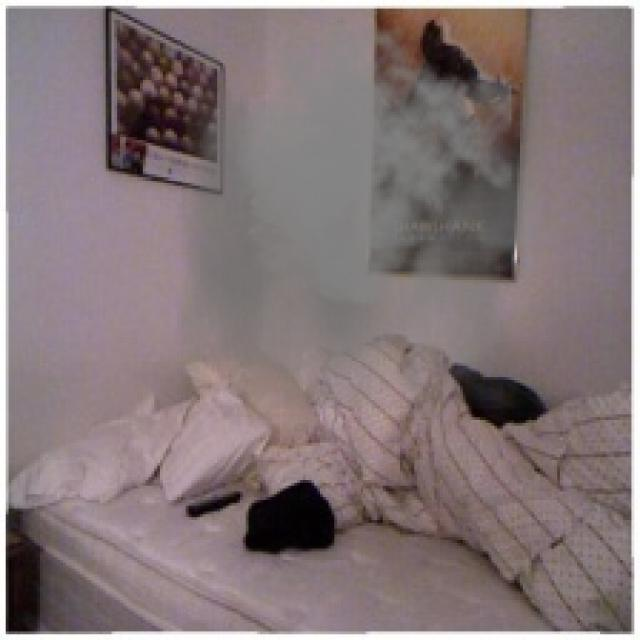Smoke: (175, 14, 554, 409)
